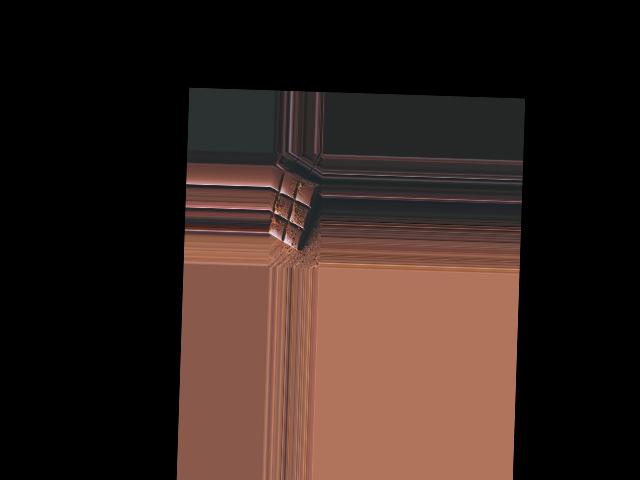chocolate: (269, 165, 318, 254)
